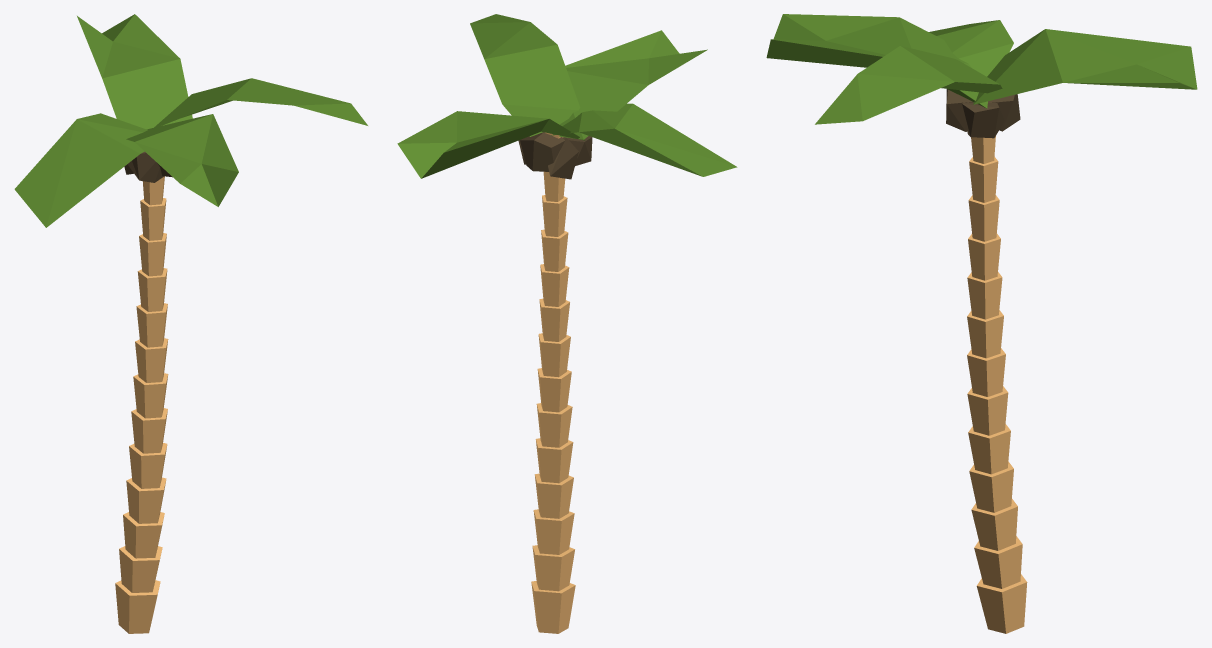
File: palm_tree3.obj
3 renders of one model, left to right at view 1: azimuth 30°, elevation 25°; view 2: azimuth 150°, elevation 25°; view 3: azimuth 270°, elevation 25°, orthographic. The views are drawn at different scales.
Parts seen in each view (by area): view 1: main_palm.004_leaf, main_palm.004_wood, main_palm.004_coconut; view 2: main_palm.004_leaf, main_palm.004_wood, main_palm.004_coconut; view 3: main_palm.004_leaf, main_palm.004_wood, main_palm.004_coconut.
Part boxes in pixels (box(x1,y1,x2,y2)): main_palm.004_leaf: box(14, 14, 367, 227); main_palm.004_wood: box(115, 176, 168, 633); main_palm.004_coconut: box(124, 151, 172, 182); main_palm.004_leaf: box(397, 14, 737, 178); main_palm.004_wood: box(531, 132, 575, 633); main_palm.004_coconut: box(518, 132, 592, 179); main_palm.004_leaf: box(766, 14, 1197, 124); main_palm.004_wood: box(967, 136, 1027, 633); main_palm.004_coconut: box(946, 89, 1020, 138).
Size of the model in its own units: 5.73 by 10.47 by 6.78.
